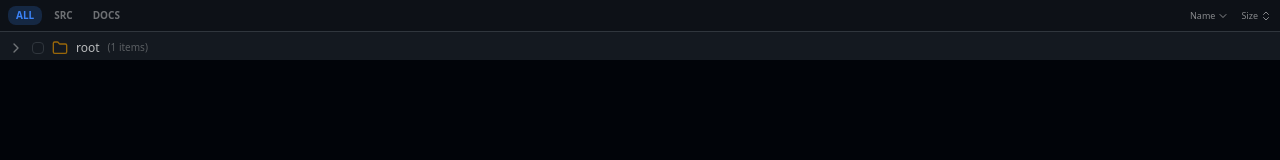
Test: FileTree Path-Based Behavior › Path hierarchy detection › should correctly identify parent-child relationships via path
Expected: the text "root" is shown, [76,38,100,56]
// Expand root to see child
Click the button with test id "expand-icon" at (16,48), box [6,38,26,58]
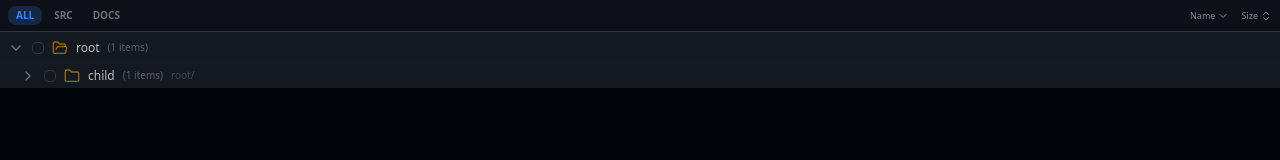
Expected: the text "child" is shown, [88,66,115,84]
Click the 2nd button with test id "expand-icon" at (28,76), box [18,66,38,86]
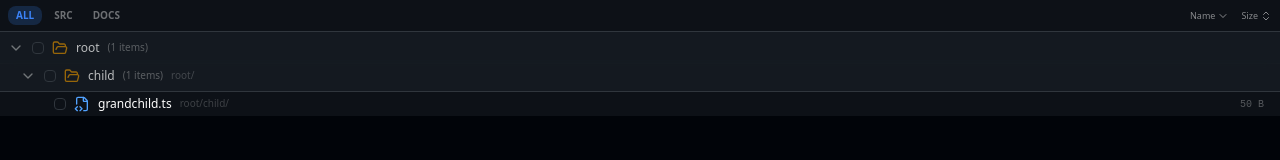
Expected: the text "grandchild.ts" is shown, [98,94,172,112]
